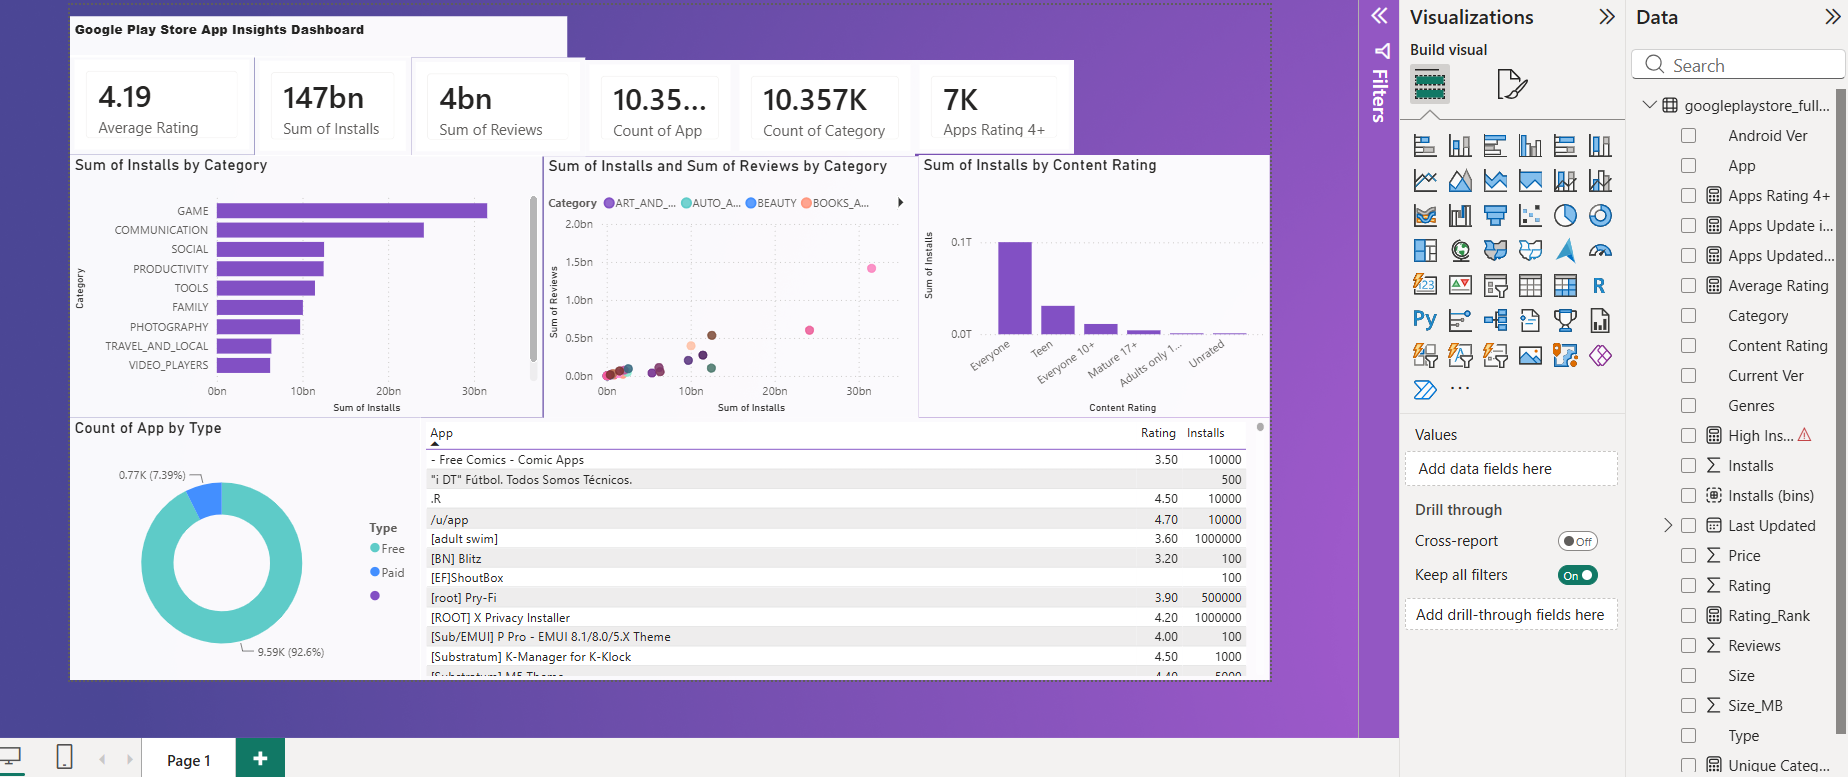

What the dashboard file says about the page in this screenshot:
{"tool":"powerbi","page":{"name":"Page 1","canvas":[1280,720],"ordinal":0},"visuals":[{"type":"clusteredBarChart","fields":{"Category":["googleplaystore_fully_cleaned.Category"],"Y":["Sum(googleplaystore_fully_cleaned.Installs)"]},"box":[0,164.4,704.1,275.3],"z":0},{"type":"scatterChart","fields":{"X":["Sum(googleplaystore_fully_cleaned.Installs)"],"Y":["Avg(googleplaystore_fully_cleaned.Reviews)"],"Series":["googleplaystore_fully_cleaned.Category"]},"box":[704.1,164.4,576.2,275],"z":1000},{"type":"donutChart","fields":{"Category":["googleplaystore_fully_cleaned.Type"],"Y":["CountNonNull(googleplaystore_fully_cleaned.App)"]},"box":[460.3,439.7,374.2,280],"z":2000},{"type":"clusteredColumnChart","fields":{"Category":["googleplaystore_fully_cleaned.Content Rating"],"Y":["Sum(googleplaystore_fully_cleaned.Installs)"]},"box":[0,439.7,460.3,280.8],"z":3000},{"type":"cardVisual","fields":{"Data":["googleplaystore_fully_cleaned.Average Rating"]},"box":[97.3,64.4,179.5,100],"z":4000},{"type":"cardVisual","fields":{"Data":["Sum(googleplaystore_fully_cleaned.Installs)"]},"box":[276.7,64.4,163,100],"z":5000},{"type":"cardVisual","fields":{"Data":["Avg(googleplaystore_fully_cleaned.Reviews)"]},"box":[439.7,64.4,201.4,100],"z":6000},{"type":"cardVisual","fields":{"Data":["CountNonNull(googleplaystore_fully_cleaned.Category)","select"]},"box":[641.1,64.4,193.2,100],"z":7000},{"type":"cardVisual","fields":{"Data":["googleplaystore_fully_cleaned.Apps Rating 4+"]},"box":[833.8,63.8,172.5,101.2],"z":8000},{"type":"textbox","box":[317.5,15,516.2,43.8],"z":9000},{"type":"clusteredBarChart","fields":{"Category":["googleplaystore_fully_cleaned.App"],"Y":["Sum(googleplaystore_fully_cleaned.Installs)"]},"box":[834.2,439.7,446.2,280],"z":10000}]}

Visuals, with their boxes on the page's 1280x720 design canvas (x1, y1, x2, y2). These are canvas units, not pixel positions in the 1848x777 screenshot, which may show the page scaled, cropped or inside an application window:
clusteredBarChart - googleplaystore_fully_cleaned.Category x Sum(googleplaystore_fully_cleaned.Installs): bbox=[0, 164, 704, 440]
scatterChart - Sum(googleplaystore_fully_cleaned.Installs) x Avg(googleplaystore_fully_cleaned.Reviews): bbox=[704, 164, 1280, 439]
donutChart - googleplaystore_fully_cleaned.Type x CountNonNull(googleplaystore_fully_cleaned.App): bbox=[460, 440, 834, 720]
clusteredColumnChart - googleplaystore_fully_cleaned.Content Rating x Sum(googleplaystore_fully_cleaned.Installs): bbox=[0, 440, 460, 720]
cardVisual - googleplaystore_fully_cleaned.Average Rating: bbox=[97, 64, 277, 164]
cardVisual - Sum(googleplaystore_fully_cleaned.Installs): bbox=[277, 64, 440, 164]
cardVisual - Avg(googleplaystore_fully_cleaned.Reviews): bbox=[440, 64, 641, 164]
cardVisual - CountNonNull(googleplaystore_fully_cleaned.Category) x select: bbox=[641, 64, 834, 164]
cardVisual - googleplaystore_fully_cleaned.Apps Rating 4+: bbox=[834, 64, 1006, 165]
textbox: bbox=[318, 15, 834, 59]
clusteredBarChart - googleplaystore_fully_cleaned.App x Sum(googleplaystore_fully_cleaned.Installs): bbox=[834, 440, 1280, 720]
